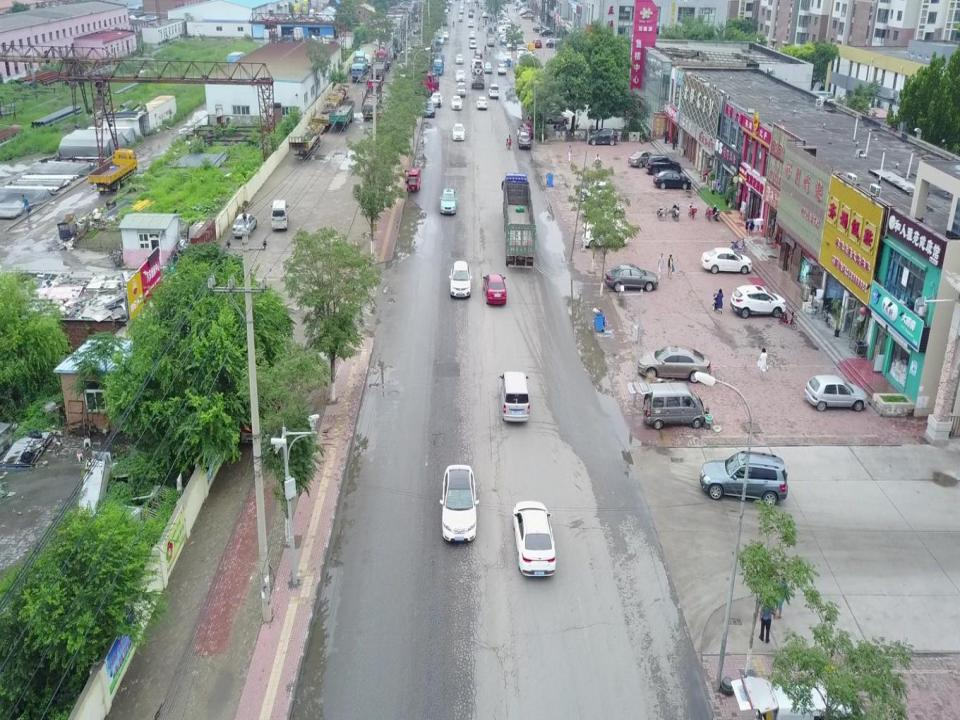car: (698, 452, 788, 507), (511, 497, 556, 580), (440, 461, 476, 544), (635, 344, 711, 380), (805, 372, 862, 413), (730, 285, 786, 318), (702, 246, 755, 278), (604, 262, 660, 292), (581, 229, 632, 249), (578, 179, 621, 201), (583, 212, 630, 232), (580, 196, 624, 216), (449, 260, 472, 296), (483, 269, 506, 305), (232, 209, 256, 236), (538, 103, 572, 122), (647, 154, 679, 174), (437, 187, 458, 215), (586, 127, 618, 145), (653, 168, 680, 188), (627, 150, 656, 168), (450, 122, 466, 140), (421, 98, 435, 118), (520, 120, 534, 140), (518, 129, 532, 148), (516, 46, 534, 58), (516, 60, 534, 72), (506, 38, 524, 50), (546, 36, 564, 48), (501, 31, 520, 42), (516, 54, 534, 65), (500, 34, 518, 45), (450, 95, 464, 109), (486, 83, 500, 97), (498, 23, 514, 35), (532, 24, 549, 34), (455, 82, 467, 96), (454, 69, 466, 83), (476, 96, 487, 110), (430, 93, 442, 105), (541, 29, 557, 37), (435, 33, 445, 45), (440, 30, 450, 42), (483, 60, 492, 72), (468, 30, 477, 42), (503, 51, 512, 63), (497, 64, 506, 75), (473, 49, 482, 60), (468, 38, 477, 49), (533, 37, 542, 48), (486, 34, 495, 44), (456, 53, 464, 64), (466, 19, 474, 29)
truck: (500, 173, 538, 264), (89, 146, 138, 195), (360, 76, 386, 122), (399, 69, 438, 94), (349, 48, 370, 77), (370, 49, 390, 79), (428, 53, 446, 74), (484, 26, 496, 38)
van: (731, 672, 857, 719), (627, 380, 712, 433), (495, 368, 531, 424), (268, 198, 288, 228)
